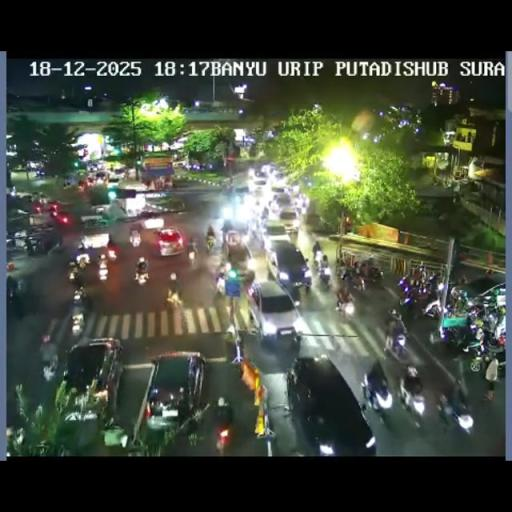Car: (286, 354, 374, 454), (137, 350, 206, 441), (62, 337, 125, 415), (247, 282, 300, 348), (18, 226, 64, 256), (155, 227, 185, 256), (143, 194, 186, 214), (263, 221, 289, 248), (277, 203, 300, 230), (249, 168, 270, 190), (33, 197, 58, 215), (80, 214, 110, 228), (224, 230, 243, 252), (51, 208, 72, 226), (271, 183, 290, 196), (110, 166, 127, 180), (270, 170, 285, 184)
Motorcycle: (59, 404, 105, 452), (437, 388, 474, 434), (441, 317, 481, 356), (401, 279, 439, 317), (360, 381, 391, 427), (99, 422, 141, 454), (477, 334, 507, 376), (398, 378, 428, 417), (166, 292, 189, 330), (440, 291, 470, 319), (6, 274, 26, 316), (355, 262, 384, 288), (224, 324, 242, 362), (388, 330, 408, 358), (215, 420, 231, 455), (490, 307, 506, 342), (336, 285, 354, 316), (76, 282, 93, 314), (5, 426, 23, 454), (42, 351, 58, 382), (215, 397, 232, 426), (247, 217, 265, 244), (67, 263, 84, 290), (464, 303, 486, 323), (386, 308, 403, 330), (71, 311, 85, 335), (318, 264, 332, 287), (214, 272, 226, 297), (134, 266, 148, 286), (240, 268, 255, 286), (187, 250, 199, 272), (301, 266, 312, 290), (341, 266, 355, 284), (286, 224, 298, 243), (98, 259, 108, 281), (417, 264, 428, 284), (129, 230, 141, 248), (106, 244, 118, 262), (205, 234, 216, 253), (314, 249, 324, 269), (168, 271, 178, 291), (398, 276, 410, 290), (260, 206, 269, 224), (224, 182, 234, 198), (78, 254, 88, 269), (246, 257, 256, 271), (458, 274, 468, 286), (270, 200, 279, 213), (76, 240, 86, 250)
